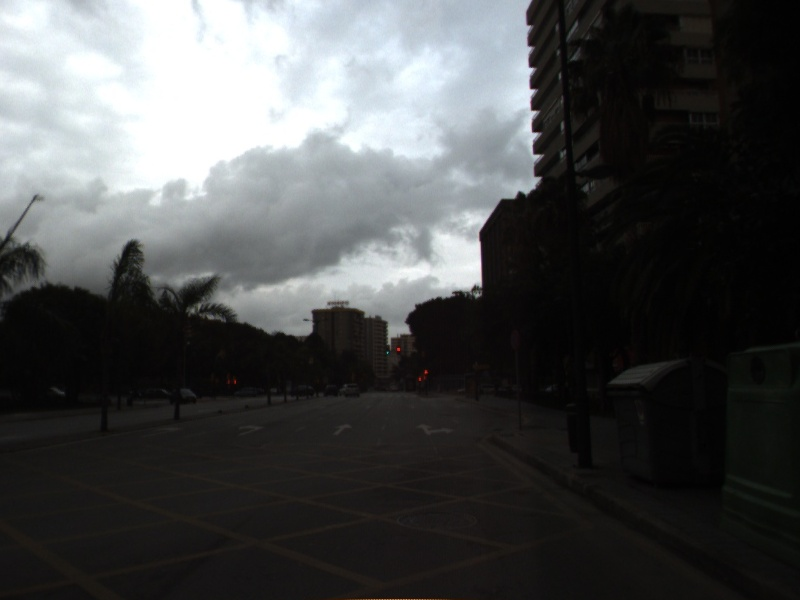LEFT: (138, 422, 186, 440), (235, 422, 267, 438)
STRAIGHT: (329, 422, 354, 438)
STRAIGHT_RIGHT: (413, 421, 458, 438)
